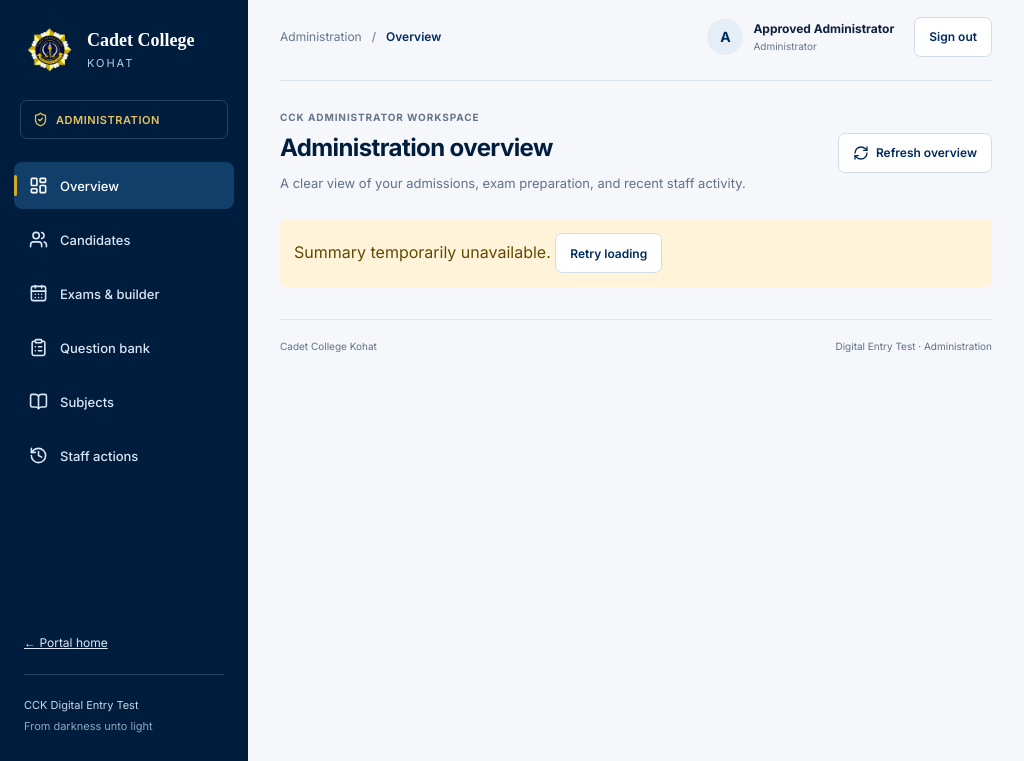
it: shows an actionable empty overview and retries a failed load without fabricated totals
Expected: the message shows "Summary temporarily unavailable.", left=294, top=242, right=551, bottom=262
Click the button "Retry loading" at x=609, y=253, box left=555, top=233, right=662, bottom=273
(page scrolled)
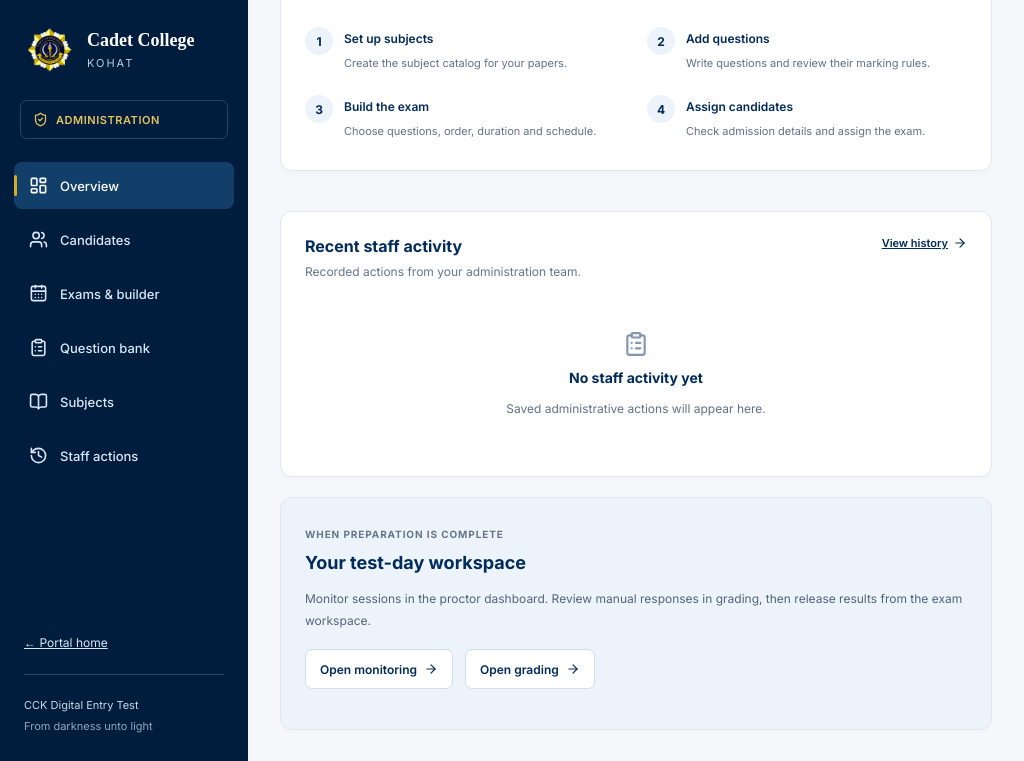
Expected: the text "No staff activity yet" is shown, left=569, top=369, right=703, bottom=386
